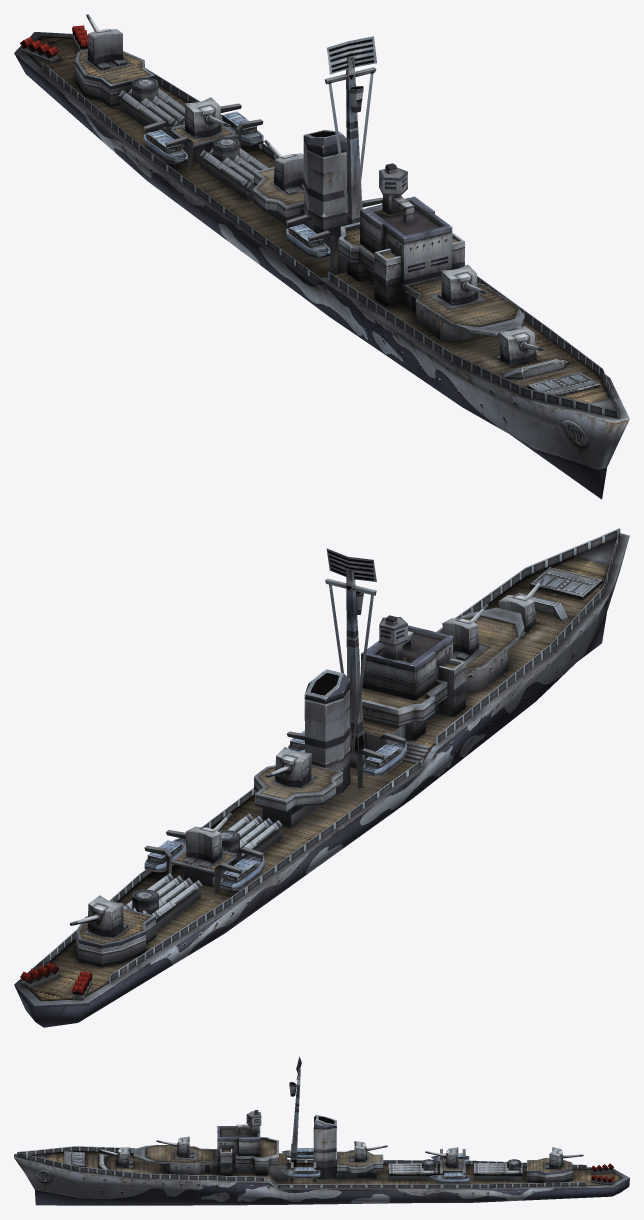
The model's file is ZhanJian.FBX.
3 renders of one model, top to bottom at view 1: azimuth 30°, elevation 25°; view 2: azimuth 150°, elevation 25°; view 3: azimuth 270°, elevation 25°, orthographic. The views are drawn at different scales.
Visible parts, largest first — view 1: Destoryer, YuLei22222, YuLei1111111, Dummy005, Dummy003, Dummy006, Dummy004, Dummy002; view 2: Destoryer, YuLei22222, YuLei1111111, Dummy002, Dummy004, Dummy003, Dummy005, Dummy006; view 3: Destoryer, YuLei1111111, YuLei22222, Dummy004, Dummy002, Dummy003, Dummy005, Dummy006.
Part boxes in pixels (x1=…): Destoryer: x1=14, y1=25, x2=629, y2=499; YuLei22222: x1=118, y1=77, x2=184, y2=130; YuLei1111111: x1=200, y1=137, x2=268, y2=191; Dummy005: x1=441, y1=264, x2=478, y2=303; Dummy003: x1=184, y1=97, x2=221, y2=136; Dummy006: x1=499, y1=326, x2=536, y2=364; Dummy004: x1=87, y1=29, x2=123, y2=64; Dummy002: x1=273, y1=153, x2=303, y2=190; Destoryer: x1=14, y1=528, x2=629, y2=1027; YuLei22222: x1=123, y1=873, x2=202, y2=919; YuLei1111111: x1=219, y1=813, x2=282, y2=862; Dummy002: x1=275, y1=747, x2=311, y2=786; Dummy004: x1=87, y1=895, x2=123, y2=936; Dummy003: x1=186, y1=826, x2=222, y2=863; Dummy005: x1=442, y1=618, x2=479, y2=654; Dummy006: x1=498, y1=595, x2=536, y2=632; Destoryer: x1=14, y1=1056, x2=629, y2=1205; YuLei1111111: x1=388, y1=1159, x2=437, y2=1175; YuLei22222: x1=474, y1=1159, x2=522, y2=1175; Dummy004: x1=549, y1=1147, x2=563, y2=1168; Dummy002: x1=354, y1=1141, x2=367, y2=1161; Dummy003: x1=445, y1=1147, x2=458, y2=1167; Dummy005: x1=176, y1=1136, x2=189, y2=1156; Dummy006: x1=116, y1=1147, x2=129, y2=1167.
Size of the model in its own units: 6.08 by 13.35 by 52.05.
